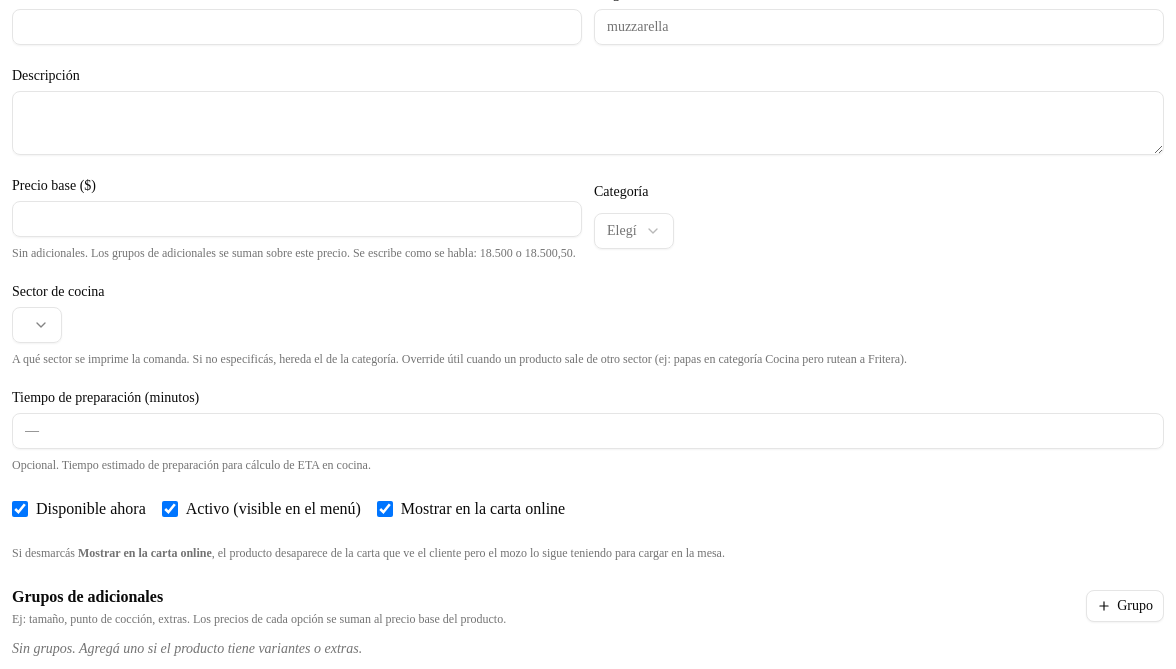
Test: ProductForm · alta › crear sin poner precio no guarda un producto en $0
Type "Agua" into the field labelled "Nombre" at (297, 27), box [12,9,582,45]
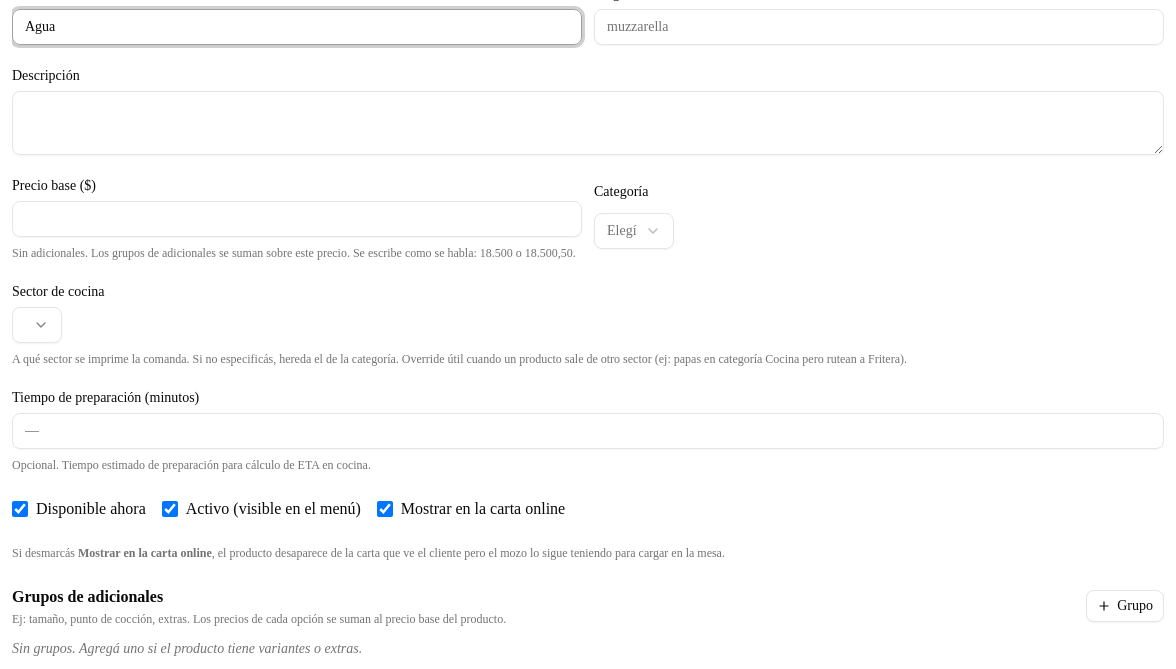
Type "agua" into the field labelled "Slug" at (879, 27), box [594,9,1164,45]
(page scrolled)
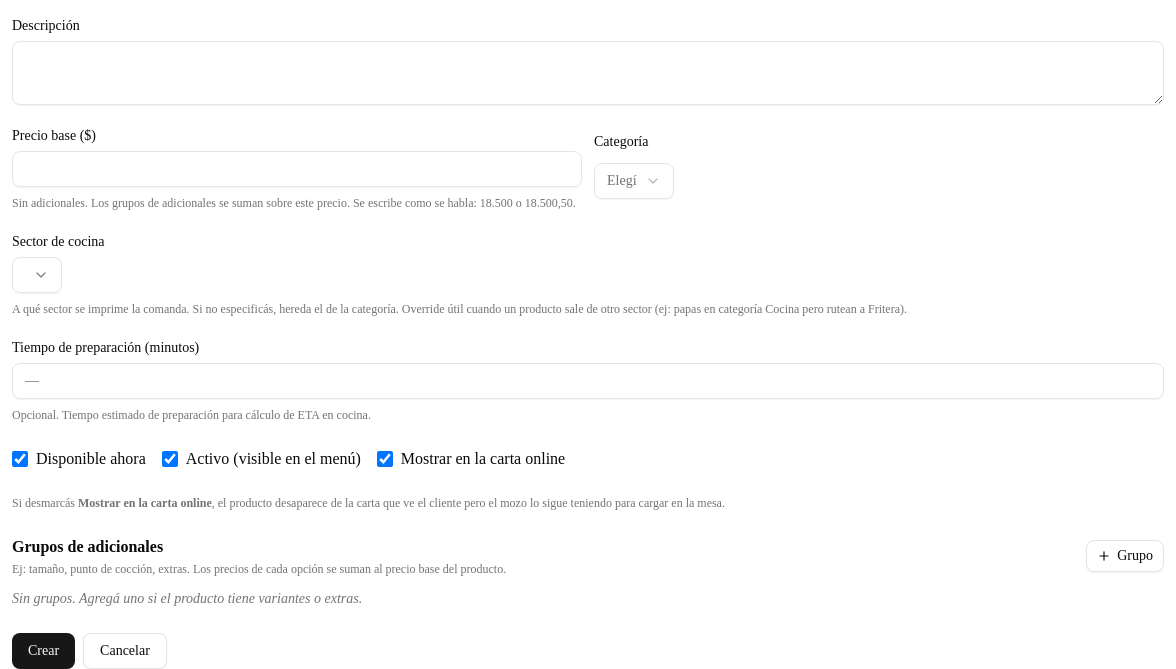
Click the button "Crear" at (44, 651), box [12,633,75,668]
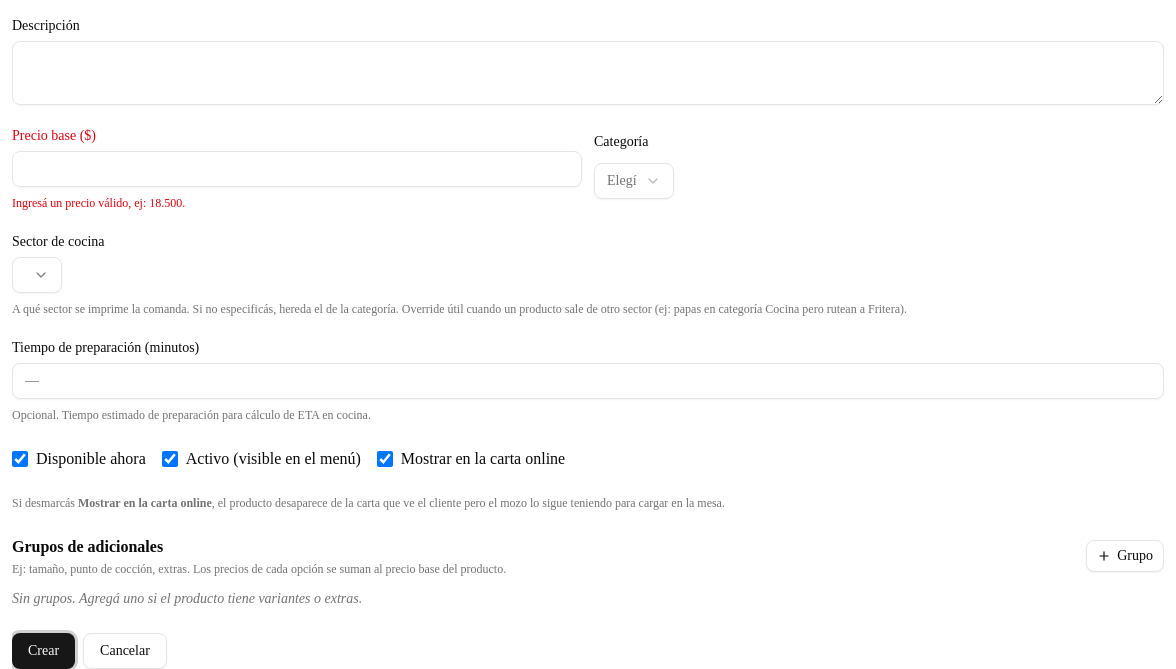
Expected: the text "Ingresá un precio válido, ej: 18.500." is shown, [12,196,185,210]
